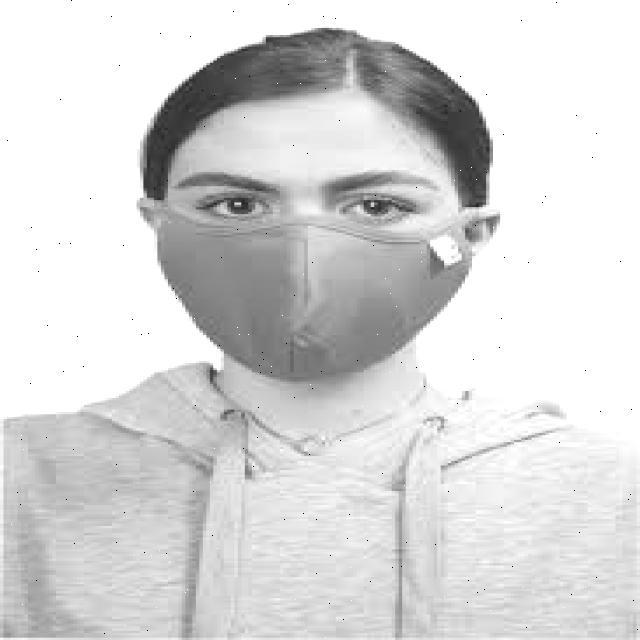fake: (120, 157, 528, 425)
real: (158, 94, 468, 402)
